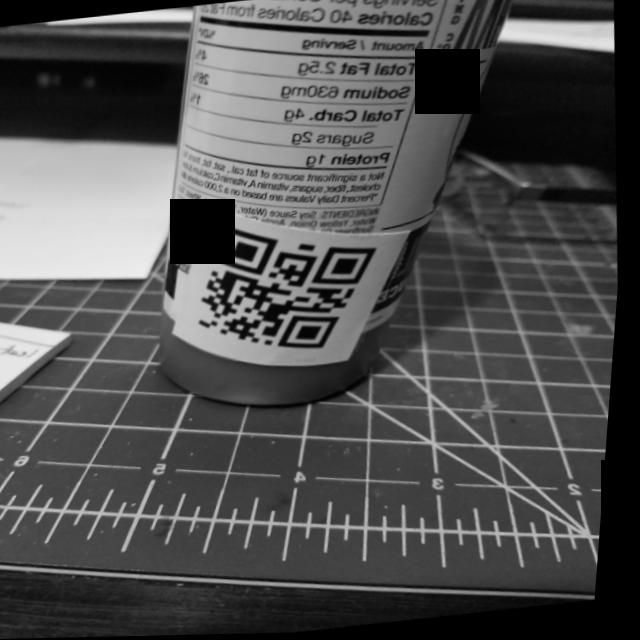QR_CODE: (180, 207, 400, 367)
